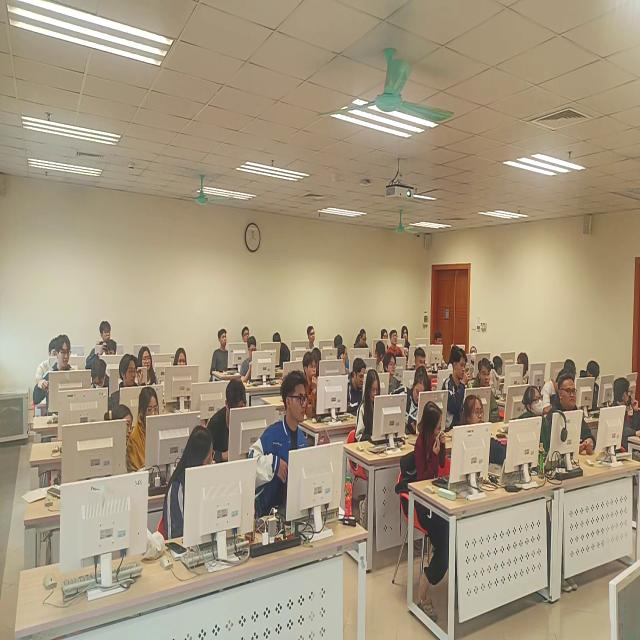raise_head: (251, 366, 318, 524), (31, 331, 82, 420), (513, 373, 554, 463), (549, 375, 585, 460), (293, 347, 326, 425), (107, 349, 146, 412), (457, 392, 491, 464), (470, 353, 499, 422), (136, 341, 161, 392), (210, 329, 233, 383), (87, 313, 113, 355), (385, 328, 404, 360), (305, 324, 321, 353), (401, 323, 412, 355), (241, 319, 253, 348), (469, 342, 480, 368), (378, 324, 390, 346)
using_computer: (200, 374, 253, 458), (128, 374, 170, 475), (356, 363, 385, 451), (395, 367, 427, 438), (340, 355, 367, 414), (538, 363, 565, 421), (343, 355, 366, 414), (35, 332, 62, 382), (89, 353, 113, 409), (170, 345, 196, 396), (382, 352, 410, 395), (580, 360, 604, 409), (432, 327, 466, 359), (270, 325, 294, 369), (242, 336, 260, 381), (353, 323, 373, 358), (370, 336, 387, 370), (411, 348, 429, 374), (562, 361, 578, 387), (332, 334, 347, 353)
using_phone: (438, 345, 474, 433)
